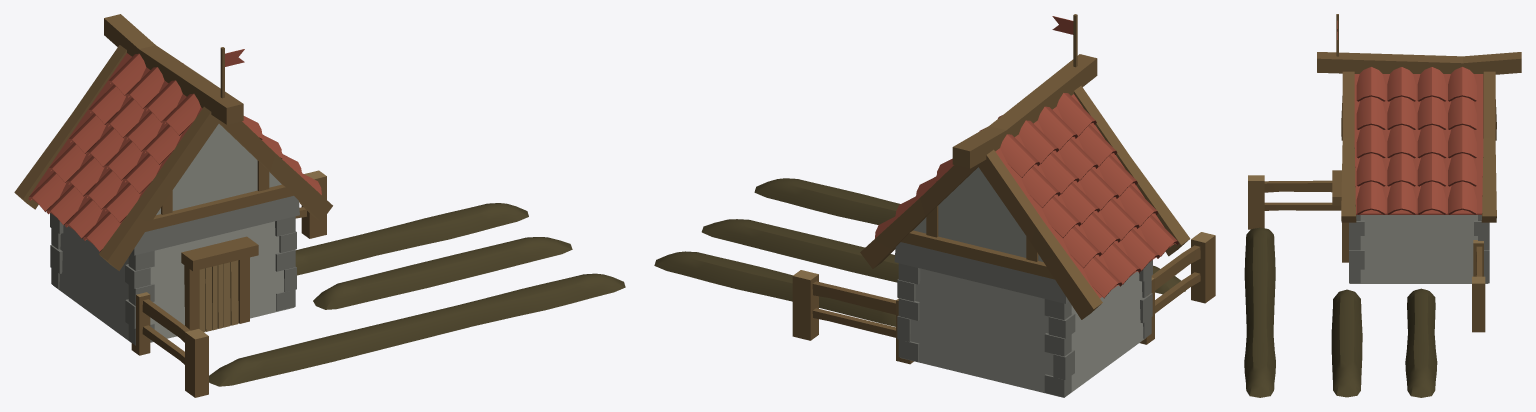
The model's file is Small_Farm.glb.
3 views of the same model, side by side, from view 1: azimuth 30°, elevation 25°; view 2: azimuth 150°, elevation 25°; view 3: azimuth 270°, elevation 25° (orthographic). The views are drawn at different scales.
Visible parts, largest first — view 1: Small_Farm_Merged; view 2: Small_Farm_Merged; view 3: Small_Farm_Merged.
Part boxes in pixels (<box>): Small_Farm_Merged: <box>14,14,625,397</box>; Small_Farm_Merged: <box>654,14,1215,397</box>; Small_Farm_Merged: <box>1244,14,1521,397</box>.
Size of the model in its own units: 1.81 by 1.07 by 1.11.
